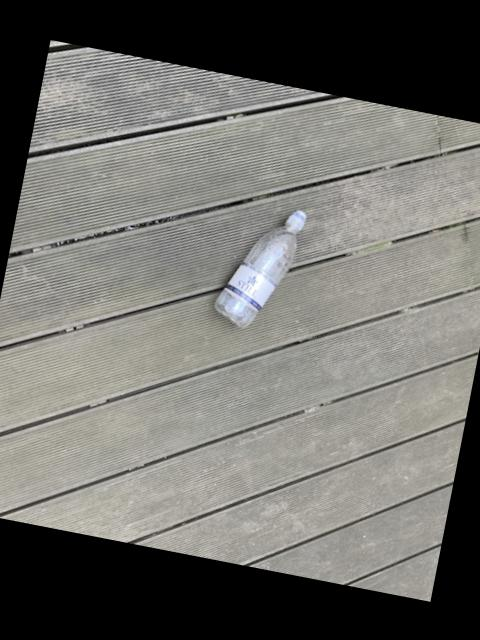plastic: (216, 208, 307, 324)
